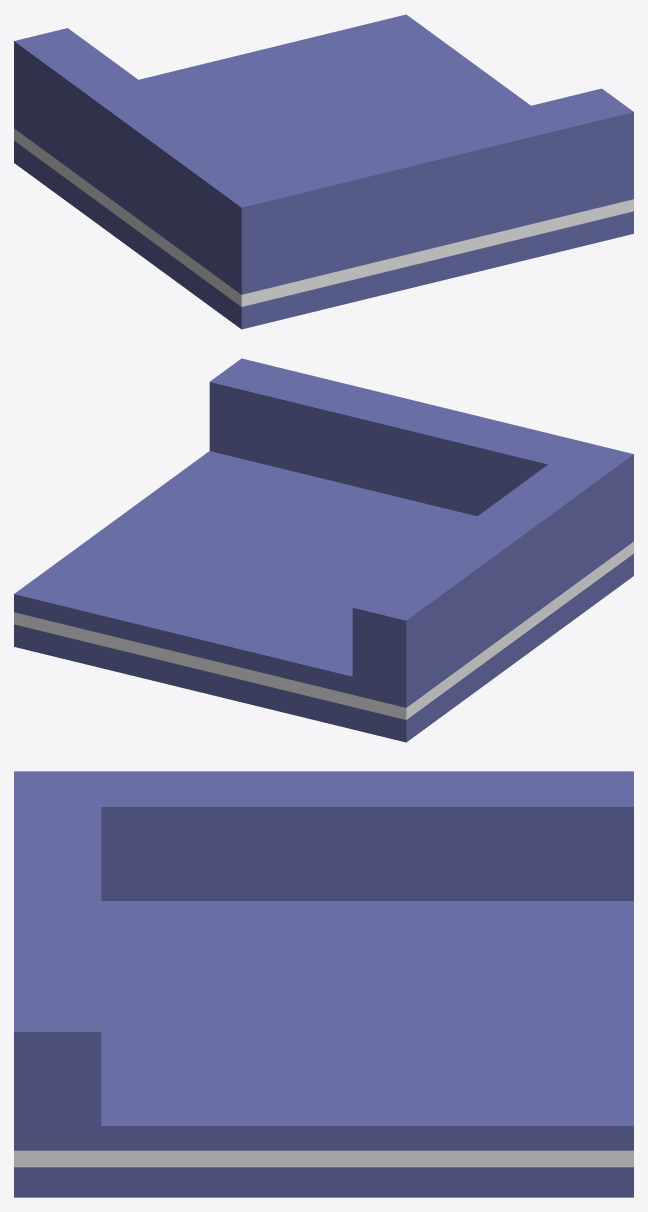
The model's file is sm_jumpStart_11.fbx.
3 views of the same model, one above another, from view 1: azimuth 30°, elevation 25°; view 2: azimuth 150°, elevation 25°; view 3: azimuth 270°, elevation 25° (orthographic). The views are drawn at different scales.
Parts seen in each view (by area): view 1: sm_jumpStart_11; view 2: sm_jumpStart_11; view 3: sm_jumpStart_11.
Boxes of the visible parts, left/top/right/bottom form: sm_jumpStart_11: left=14, top=14, right=633, bottom=329; sm_jumpStart_11: left=14, top=358, right=633, bottom=742; sm_jumpStart_11: left=14, top=771, right=633, bottom=1197.
Size of the model in its own units: 580 by 172 by 583.
